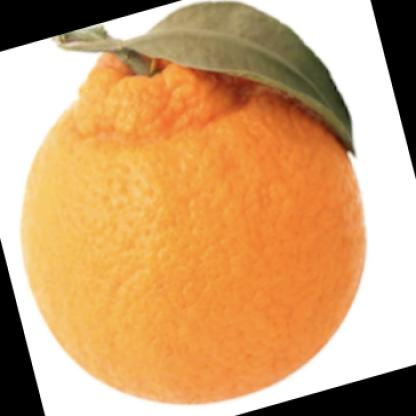fresh: (20, 37, 367, 405)
